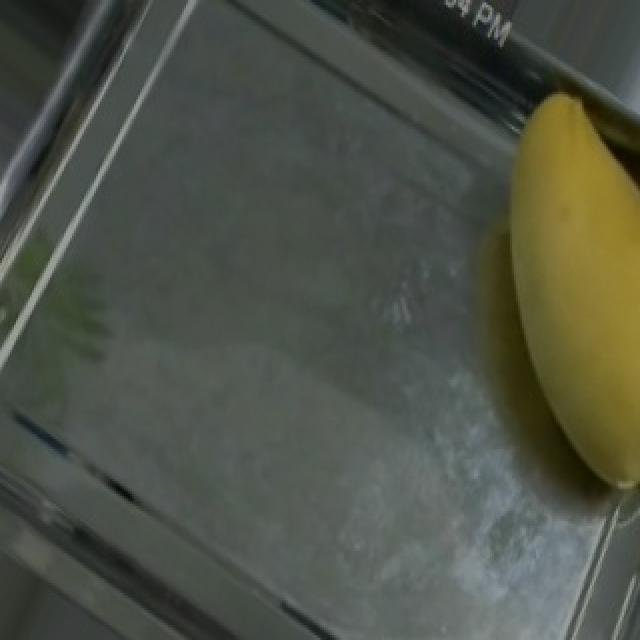fruit: (440, 72, 640, 449)
